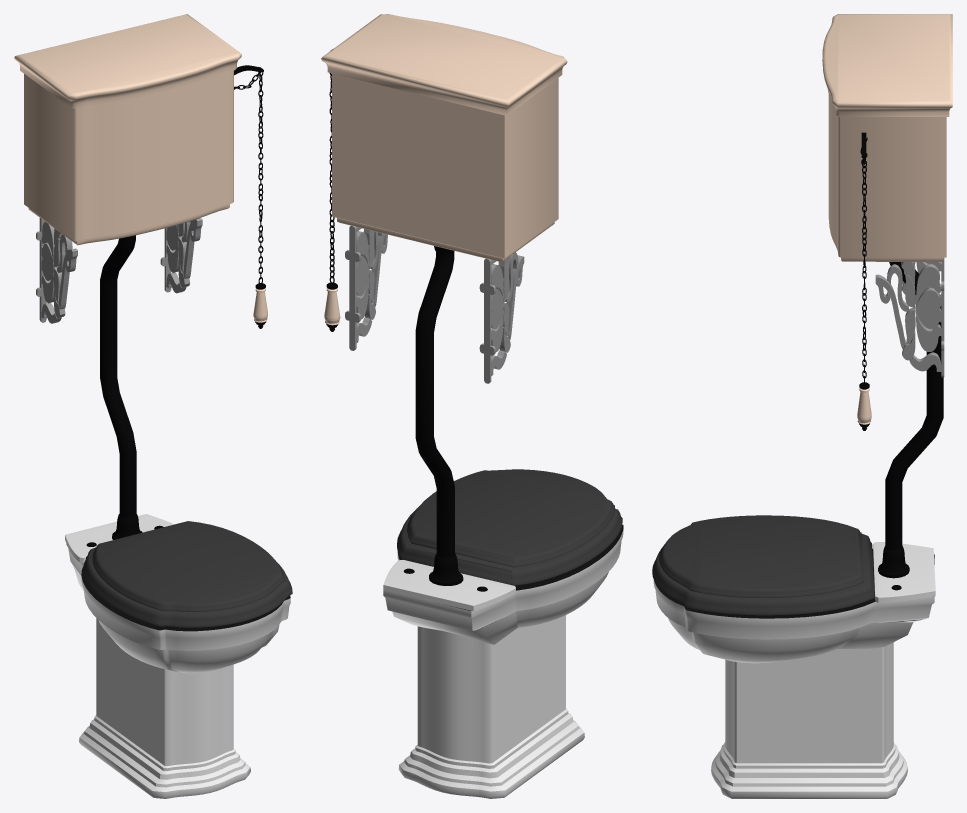
File: Toilet3.fbx
3 views of the same model, side by side, from view 1: azimuth 30°, elevation 25°; view 2: azimuth 150°, elevation 25°; view 3: azimuth 270°, elevation 25° (orthographic). The views are drawn at different scales.
Parts seen in each view (by area): view 1: Tolkan; view 2: Tolkan; view 3: Tolkan.
Boxes of the visible parts, box(x1,y1,x2,y2) form: Tolkan: box(14, 14, 292, 798); Tolkan: box(321, 14, 623, 798); Tolkan: box(652, 14, 952, 798).
Size of the model in its own units: 19.6 by 59.87 by 22.7.
